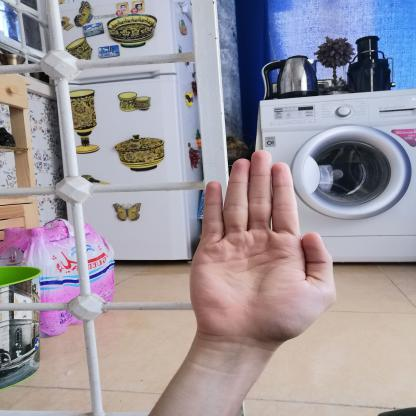SEEN: (176, 141, 347, 353)
